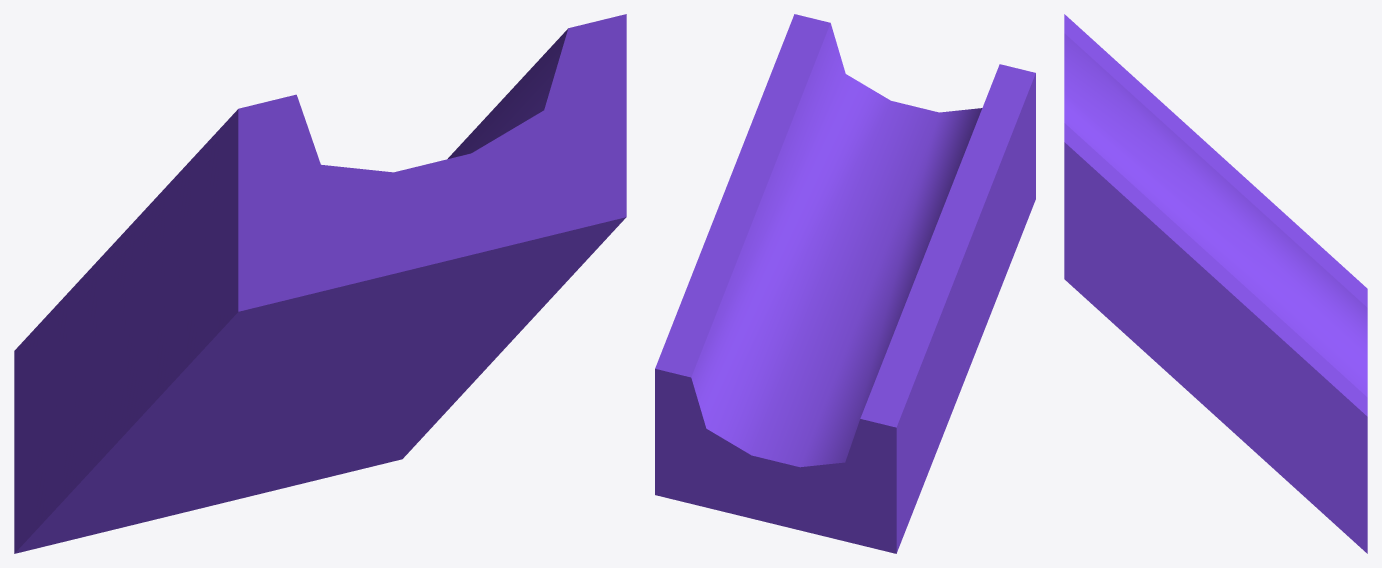
File: slant_C.fbx
3 renders of one model, left to right at view 1: azimuth 30°, elevation 25°; view 2: azimuth 150°, elevation 25°; view 3: azimuth 270°, elevation 25°, orthographic. The views are drawn at different scales.
Visible parts, largest first — view 1: slant_C; view 2: slant_C; view 3: slant_C.
Part boxes in pixels (left/top/right/bottom): slant_C: left=14, top=14, right=626, bottom=553; slant_C: left=655, top=14, right=1035, bottom=553; slant_C: left=1064, top=14, right=1367, bottom=553.
Size of the model in its own units: 10 by 15 by 10.
